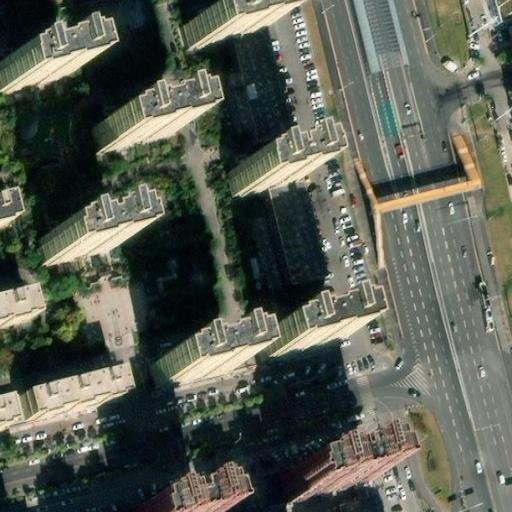building: (227, 27, 337, 328), (19, 376, 122, 425), (88, 104, 174, 153), (279, 453, 363, 503), (148, 340, 233, 388), (257, 311, 342, 359), (183, 1, 263, 50), (35, 217, 116, 265), (228, 148, 300, 195), (0, 46, 70, 94), (0, 297, 32, 328), (166, 493, 207, 512)
